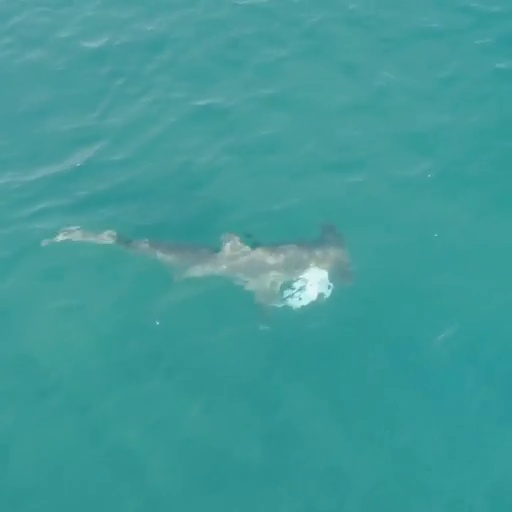shark: (38, 217, 360, 327)
